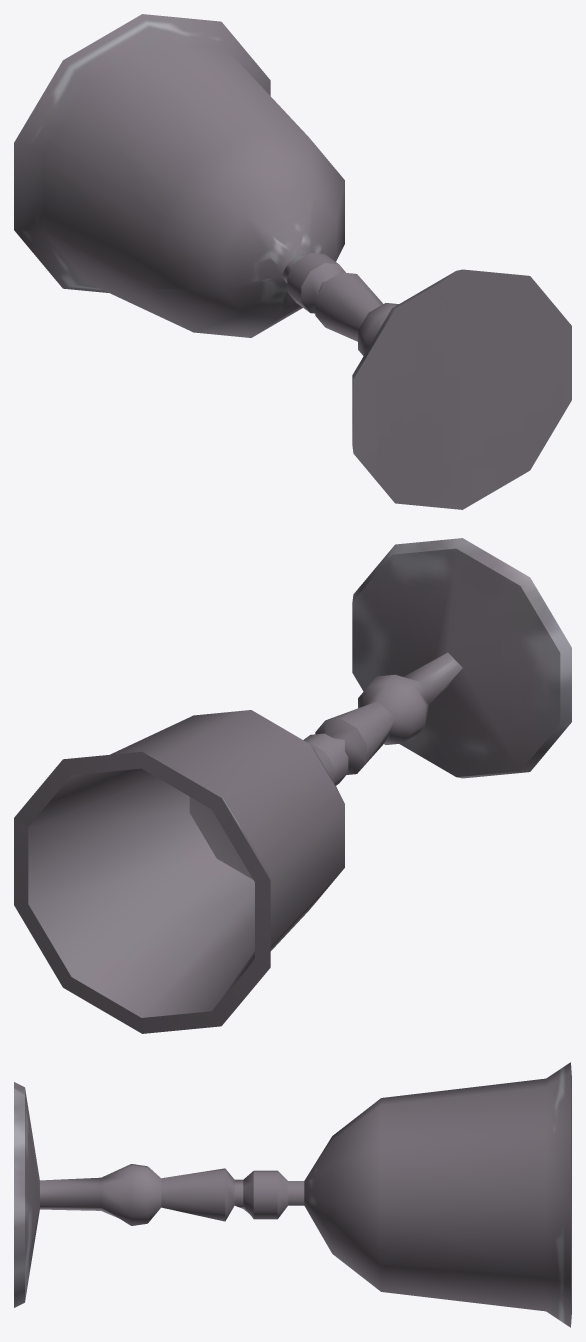
The model's file is fp-chalice-lod2.glb.
3 views of the same model, one above another, from view 1: azimuth 30°, elevation 25°; view 2: azimuth 150°, elevation 25°; view 3: azimuth 270°, elevation 25° (orthographic). The views are drawn at different scales.
Parts seen in each view (by area): view 1: WeaponMesh_fp-chalice_Chalice; view 2: WeaponMesh_fp-chalice_Chalice; view 3: WeaponMesh_fp-chalice_Chalice.
Boxes of the visible parts, x1,y1,x2,y2 form: WeaponMesh_fp-chalice_Chalice: (14,14,571,509); WeaponMesh_fp-chalice_Chalice: (14,538,571,1033); WeaponMesh_fp-chalice_Chalice: (14,1062,571,1327).
Size of the model in its own units: 0.2307 by 0.2425 by 0.5.
1 material, 1 textured.
